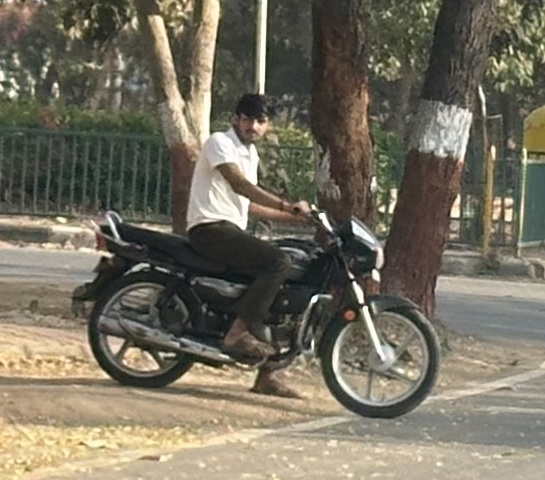BikeWithRider: (69, 92, 445, 420)
NoHelmet: (232, 94, 279, 146)
